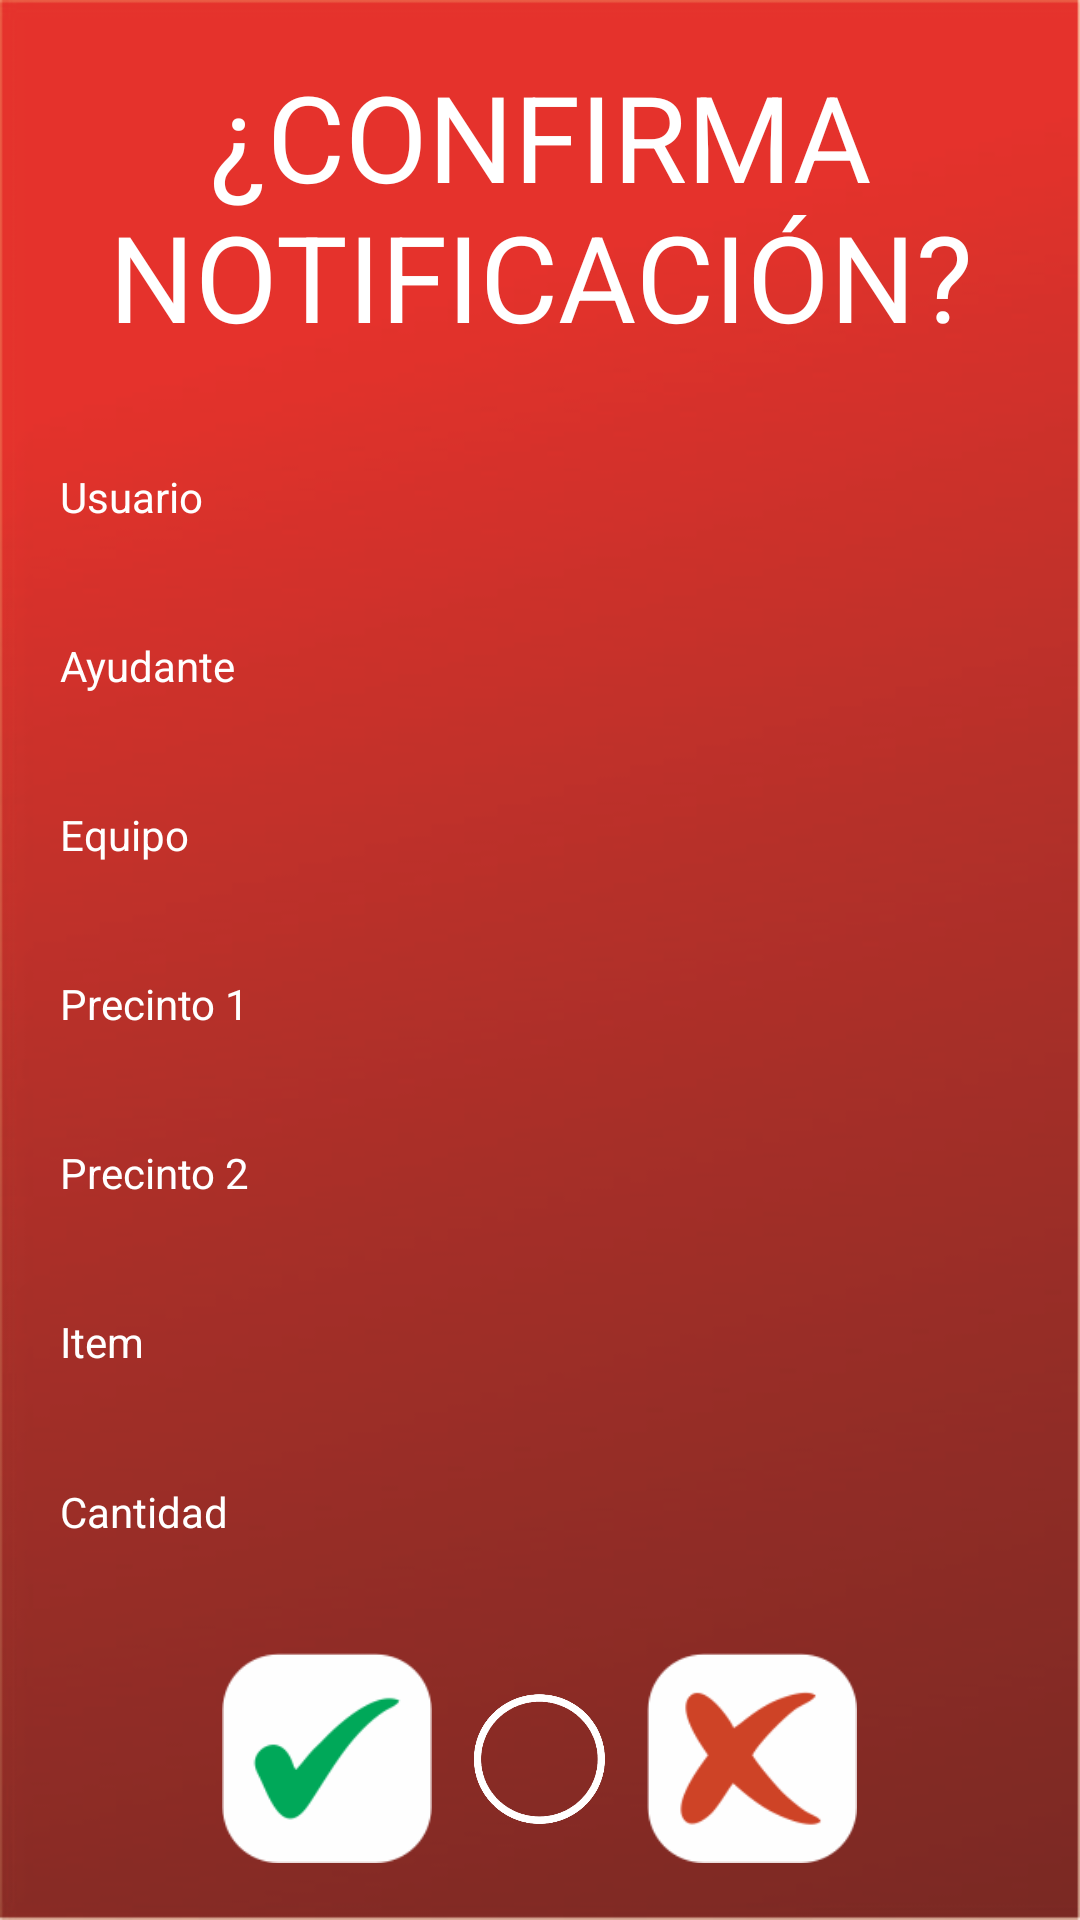

Icons on this 1080×1920 Android screen, each with its box as box(x1, y1, x2, y2):
cancelar: box(647, 1653, 857, 1863)
